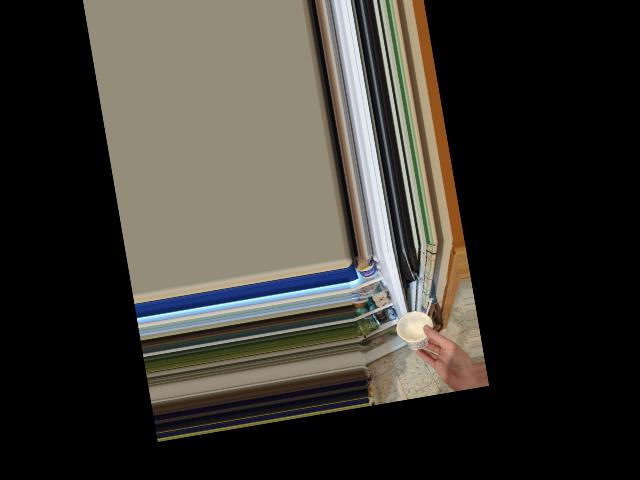cotage: (399, 308, 438, 354)
